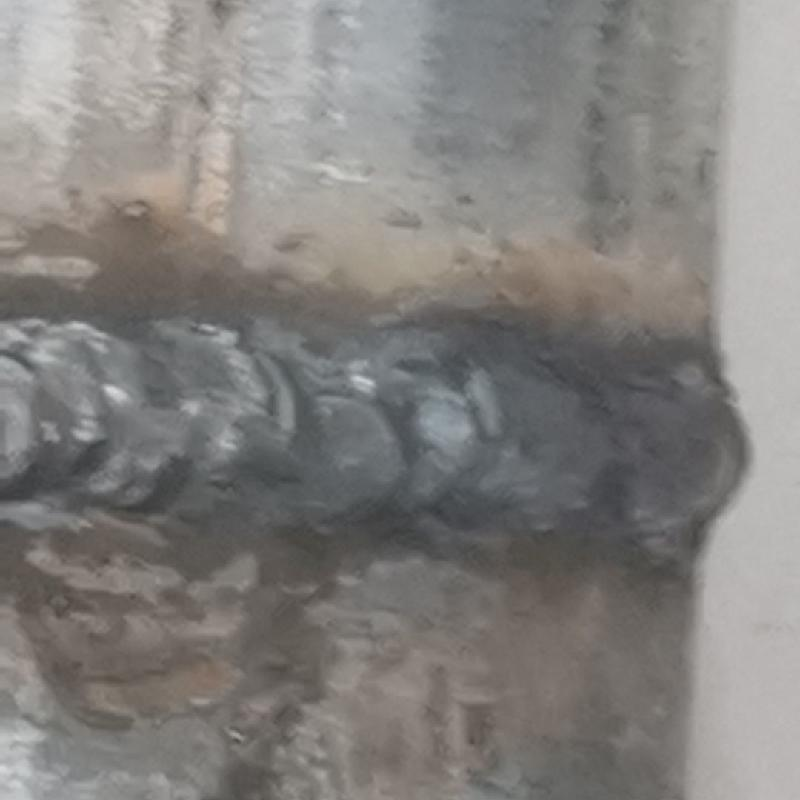good: (1, 295, 753, 570)
